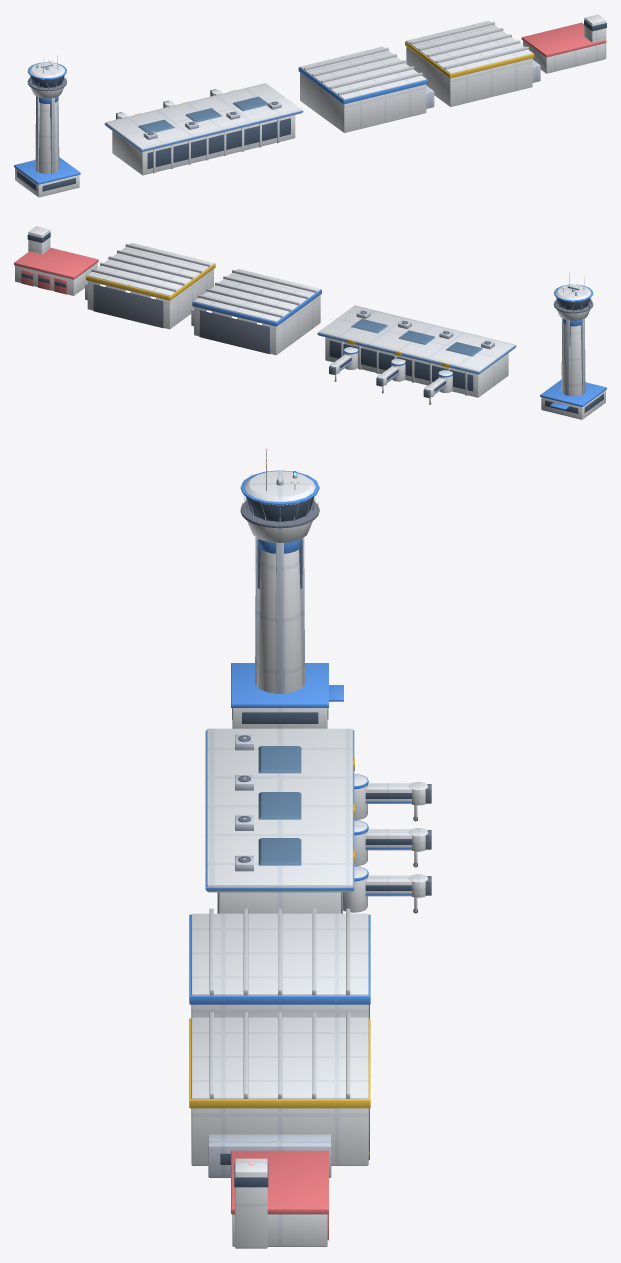
File: airport_buildings.glb
The picture shows the model from 3 angles, top to bottom: view 1: azimuth 30°, elevation 25°; view 2: azimuth 150°, elevation 25°; view 3: azimuth 270°, elevation 25°; orthographic projection. The views are drawn at different scales.
Visible parts, largest first — view 1: Terminal_Structure, Maintenance_Hangar_A_Structure, Maintenance_Hangar_B_Structure, Control_Tower_Structure, ARFF_Station_Structure; view 2: Terminal_Structure, Maintenance_Hangar_A_Structure, Maintenance_Hangar_B_Structure, Control_Tower_Structure, ARFF_Station_Structure; view 3: Terminal_Structure, Maintenance_Hangar_B_Structure, Maintenance_Hangar_A_Structure, Control_Tower_Structure, ARFF_Station_Structure.
Part boxes in pixels (x1,y1,x2,y2): Terminal_Structure: [104, 83, 303, 175]; Maintenance_Hangar_A_Structure: [298, 46, 434, 132]; Maintenance_Hangar_B_Structure: [405, 20, 540, 106]; Control_Tower_Structure: [14, 55, 80, 197]; ARFF_Station_Structure: [521, 14, 606, 73]; Terminal_Structure: [317, 305, 516, 397]; Maintenance_Hangar_A_Structure: [191, 269, 321, 355]; Maintenance_Hangar_B_Structure: [85, 243, 215, 329]; Control_Tower_Structure: [540, 272, 606, 419]; ARFF_Station_Structure: [14, 226, 98, 295]; Terminal_Structure: [205, 728, 368, 913]; Maintenance_Hangar_B_Structure: [189, 1012, 372, 1177]; Maintenance_Hangar_A_Structure: [189, 908, 372, 1018]; Control_Tower_Structure: [231, 448, 343, 728]; ARFF_Station_Structure: [231, 1150, 328, 1248].
Bounding box in the file's own units: 193 × 41.86 × 35.52.
Materials: 14 (2 with a texture image).
